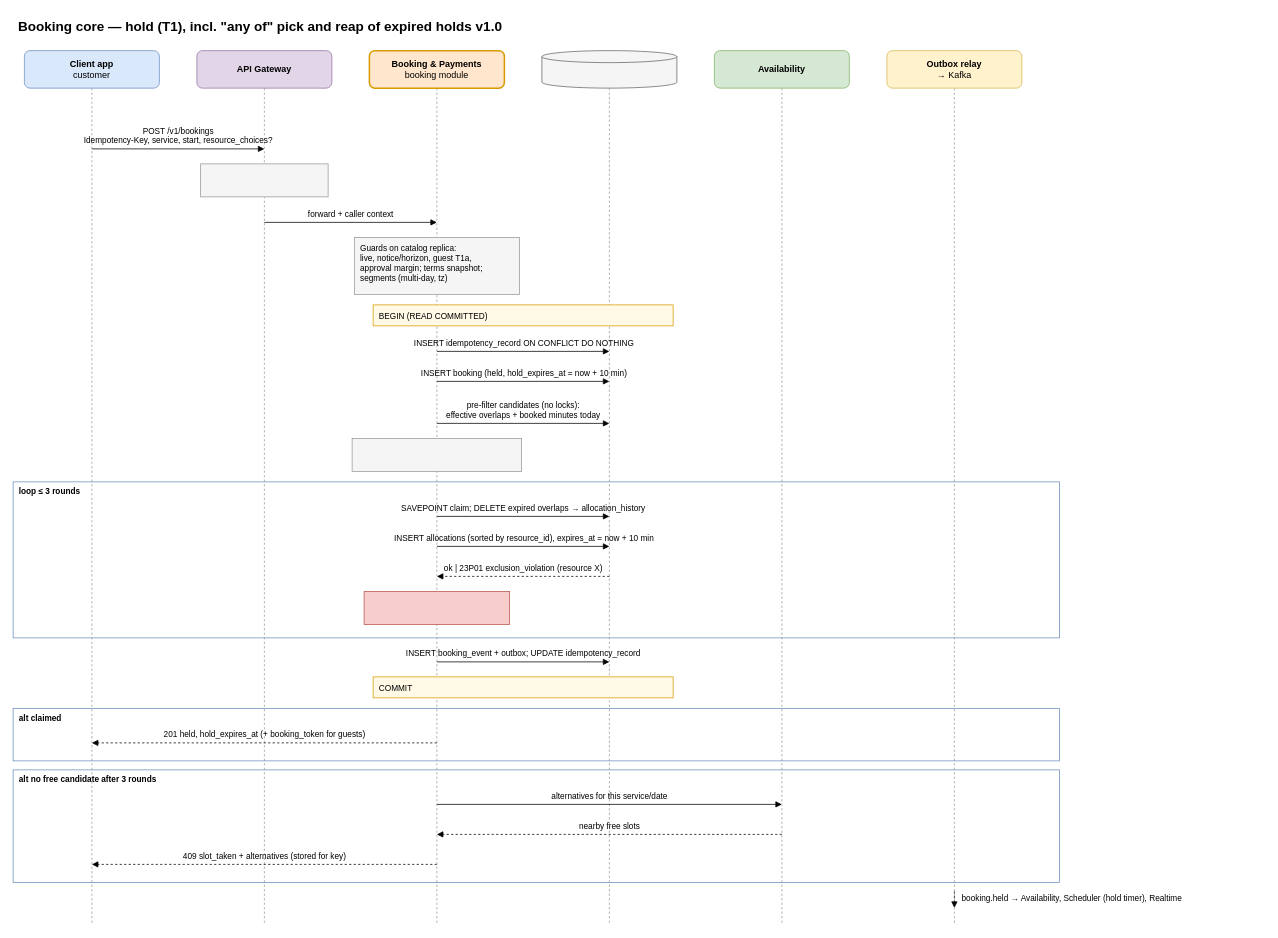
The diagram is 1278 pixels wide and 938 high, and some of its shapes have lost their labels. The centre of each missing label's shape, as x and y in pixels:
JWT, hold caps, rate limits: point 264,180
on 23P01: ROLLBACK TO claim, mark X busy, re-pick: point 436,607
pick: specific / smallest table / least busy (D82): point 436,454
PostgreSQL booking + ledger: point 609,69
